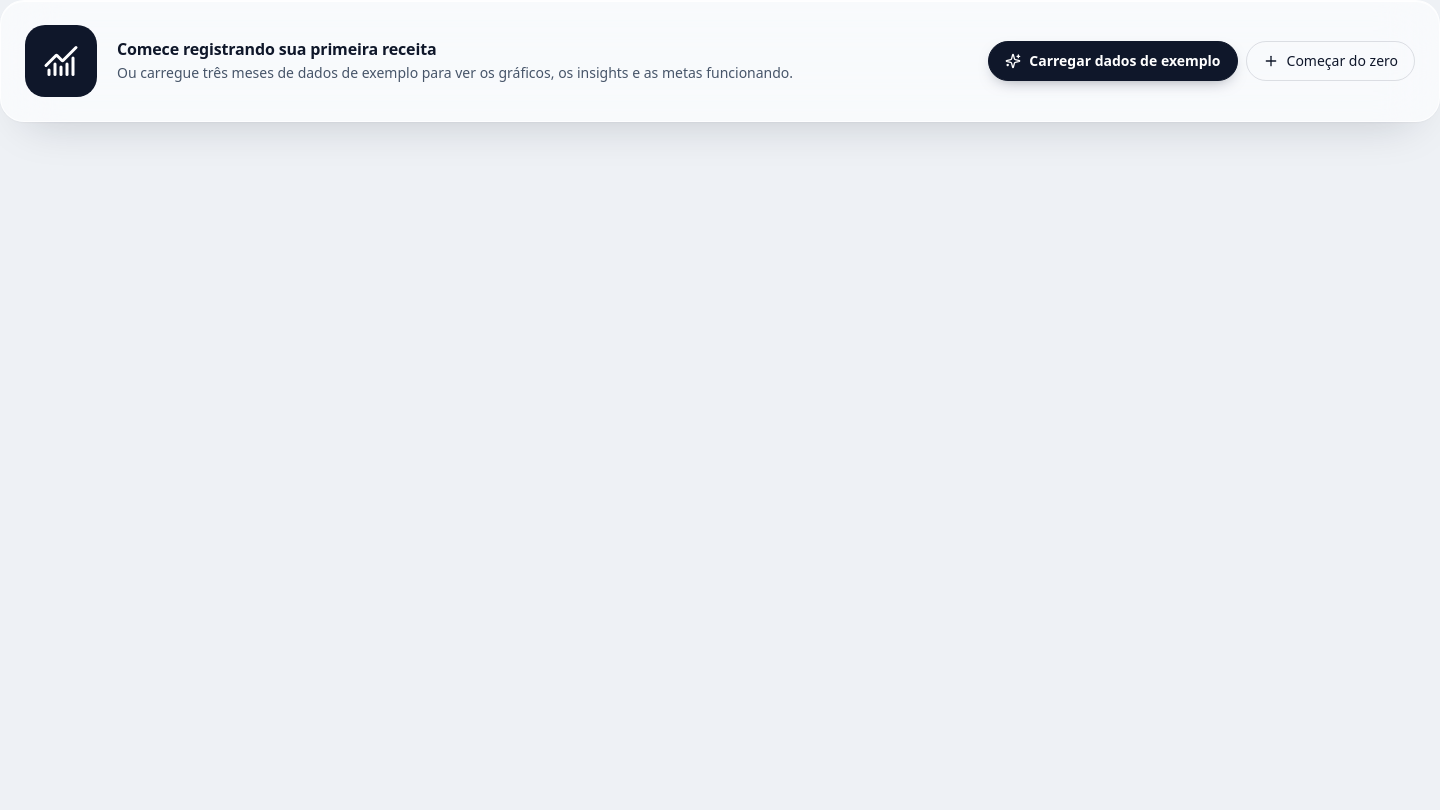
Scenario: recusa da API vira aviso de erro e não recarrega
This screenshot has width=1440, height=810.
What coordinates should you click on to do the following:
click the button "Carregar dados de exemplo"
I would click on:
 (1113, 61)
Its box is [988,41,1238,81].
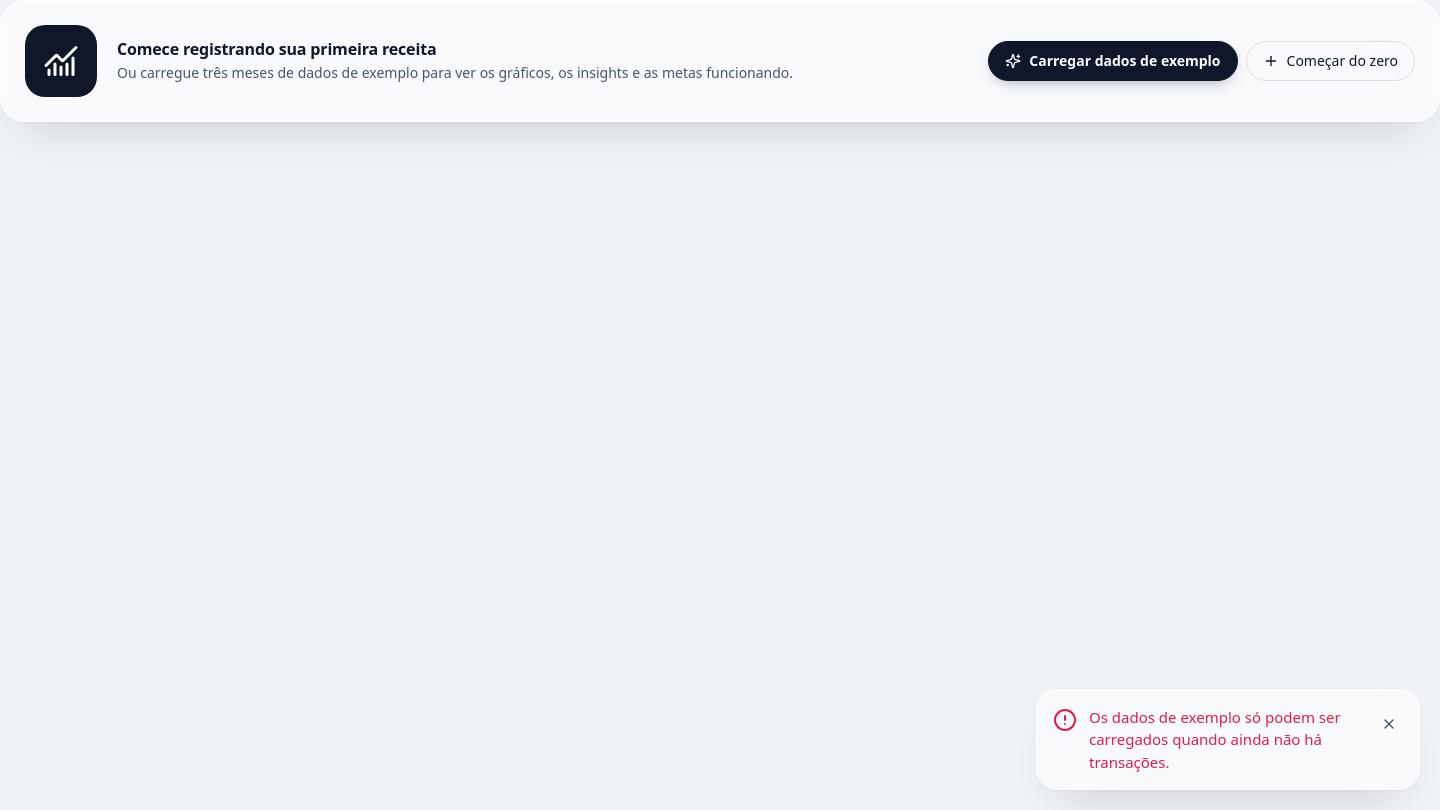
Expected: the text "só podem ser carregados" is shown, [1089,706,1341,772]
